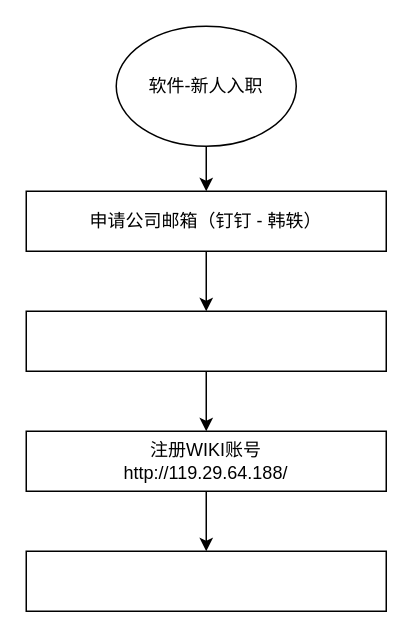
Image size: 413x638. Some labels were removed from this diagram. Each missing label, with the centre of its shape:
开通编译服务器账号 192.168.254.75: (205,580)
注册Git账号 https://192.168.254.57:5757/: (205,340)
